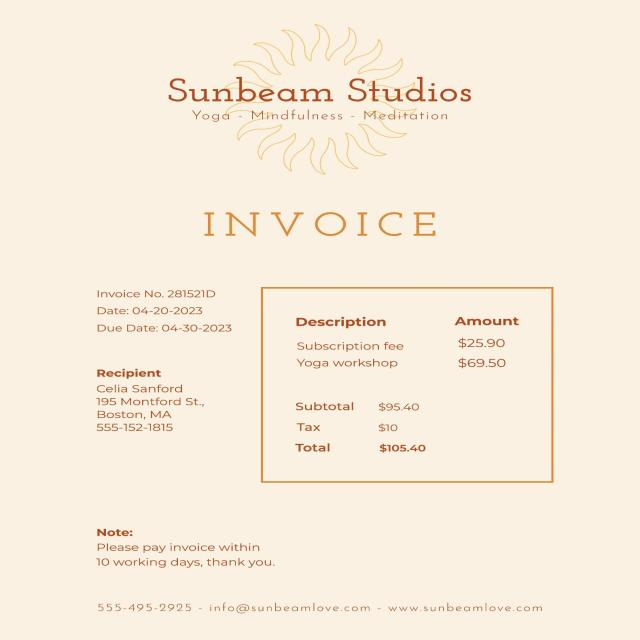paragraph: (279, 296, 548, 376), (155, 67, 482, 124), (192, 198, 459, 254), (78, 519, 293, 579), (286, 392, 450, 468), (82, 596, 562, 618), (88, 359, 214, 441), (89, 279, 242, 343)
